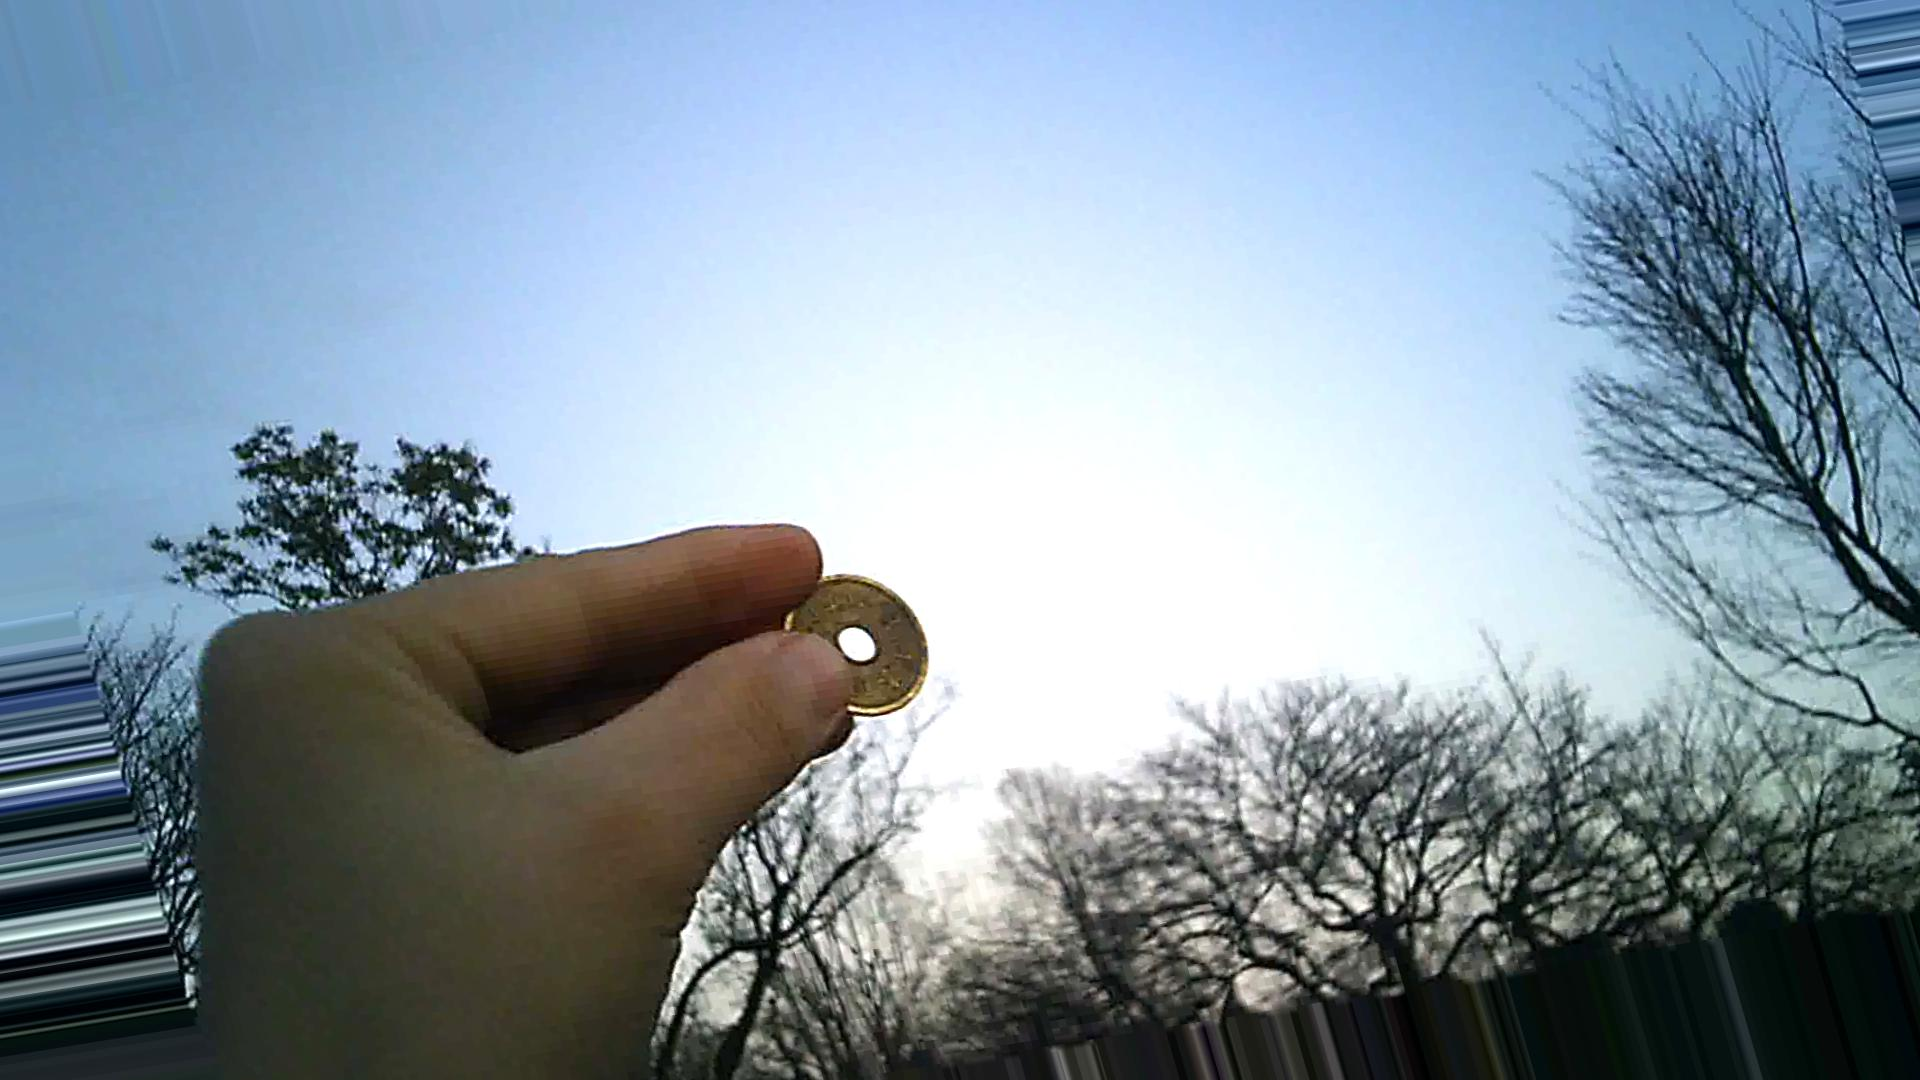5 Yen: (770, 563, 938, 732)
